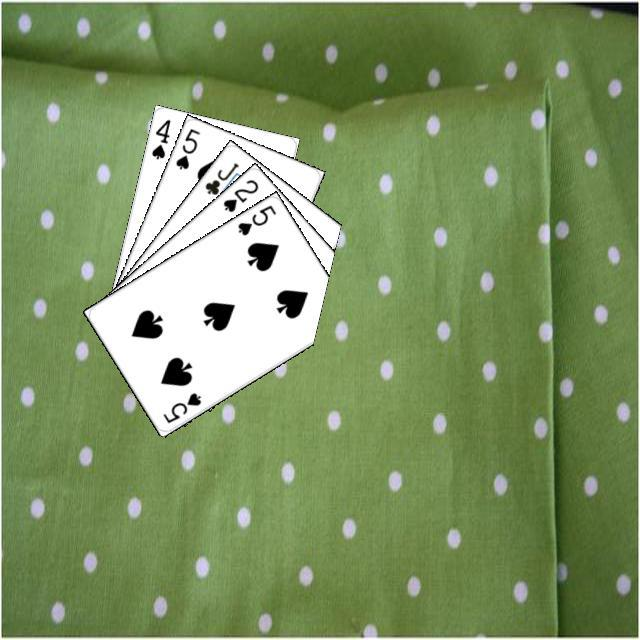2s: (218, 174, 260, 214)
4s: (147, 114, 172, 161)
5s: (233, 200, 278, 237), (158, 388, 203, 425), (171, 124, 202, 171)
Jc: (200, 158, 240, 197)
